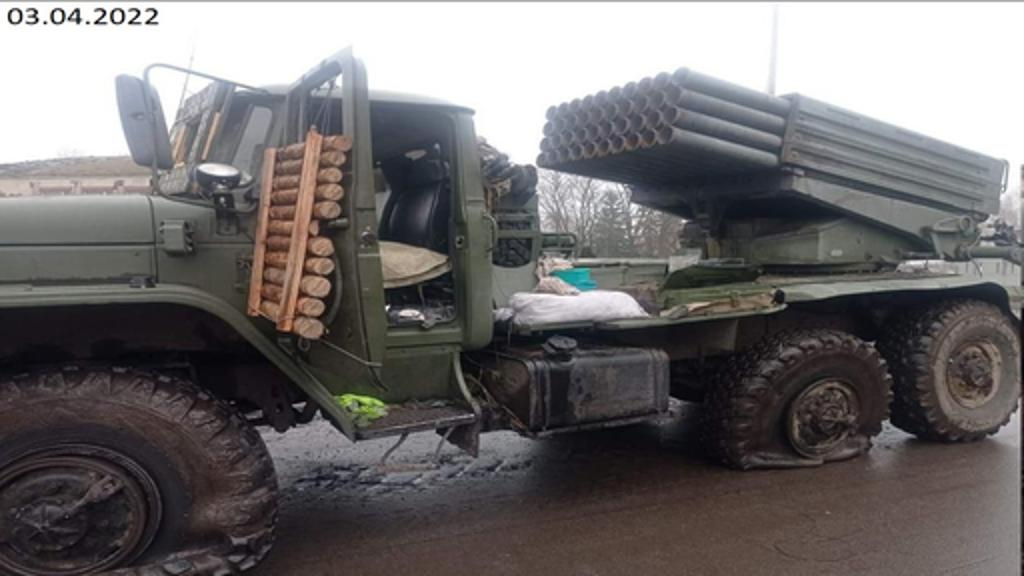MLRS: (0, 58, 1018, 574)
